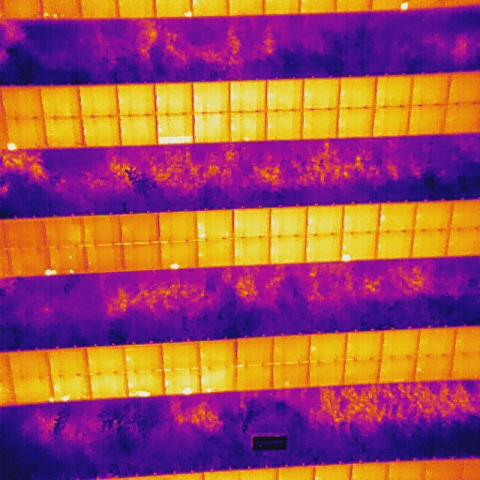fault: (156, 136, 194, 145), (134, 389, 150, 399), (42, 267, 58, 276), (169, 261, 180, 272), (6, 140, 16, 151), (181, 386, 192, 396), (399, 1, 409, 11), (205, 384, 215, 394), (59, 393, 70, 402), (183, 9, 193, 18), (341, 253, 351, 262), (241, 136, 250, 145), (47, 395, 54, 404), (68, 268, 75, 276)
